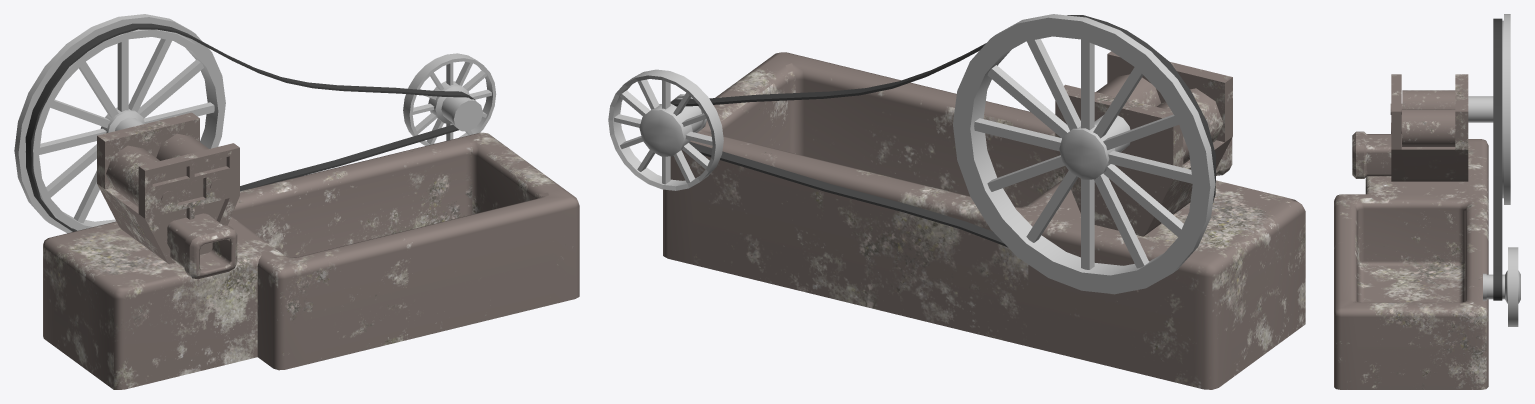
File: WheelMachine.fbx
3 renders of one model, left to right at view 1: azimuth 30°, elevation 25°; view 2: azimuth 150°, elevation 25°; view 3: azimuth 270°, elevation 25°, orthographic. The views are drawn at different scales.
Parts seen in each view (by area): view 1: Tank1, BigWheel, ClayMachine, Belt, SmallWheel, Cylinder, Cylinder1; view 2: Tank1, BigWheel, ClayMachine, SmallWheel, Belt, Cylinder, Cylinder1; view 3: Tank1, ClayMachine, Belt, BigWheel, Cylinder1, SmallWheel, Cylinder.
Part boxes in pixels (<box>): Tank1: <box>43,132,579,389</box>; BigWheel: <box>14,14,225,233</box>; ClayMachine: <box>97,112,239,279</box>; Belt: <box>25,23,475,231</box>; SmallWheel: <box>403,53,496,145</box>; Cylinder: <box>106,145,174,206</box>; Cylinder1: <box>156,133,223,192</box>; Tank1: <box>663,52,1305,389</box>; BigWheel: <box>953,14,1215,294</box>; ClayMachine: <box>1055,51,1232,236</box>; SmallWheel: <box>608,69,723,190</box>; Belt: <box>670,15,1215,247</box>; Cylinder: <box>1157,88,1223,164</box>; Cylinder1: <box>1096,74,1160,106</box>; Tank1: <box>1334,139,1488,389</box>; ClayMachine: <box>1352,74,1468,181</box>; Belt: <box>1493,18,1502,300</box>; BigWheel: <box>1468,14,1510,204</box>; Cylinder1: <box>1391,109,1455,146</box>; SmallWheel: <box>1483,247,1520,326</box>; Cylinder: <box>1390,90,1455,114</box>.
Bounding box in the file's own units: 241 × 137 × 102.
